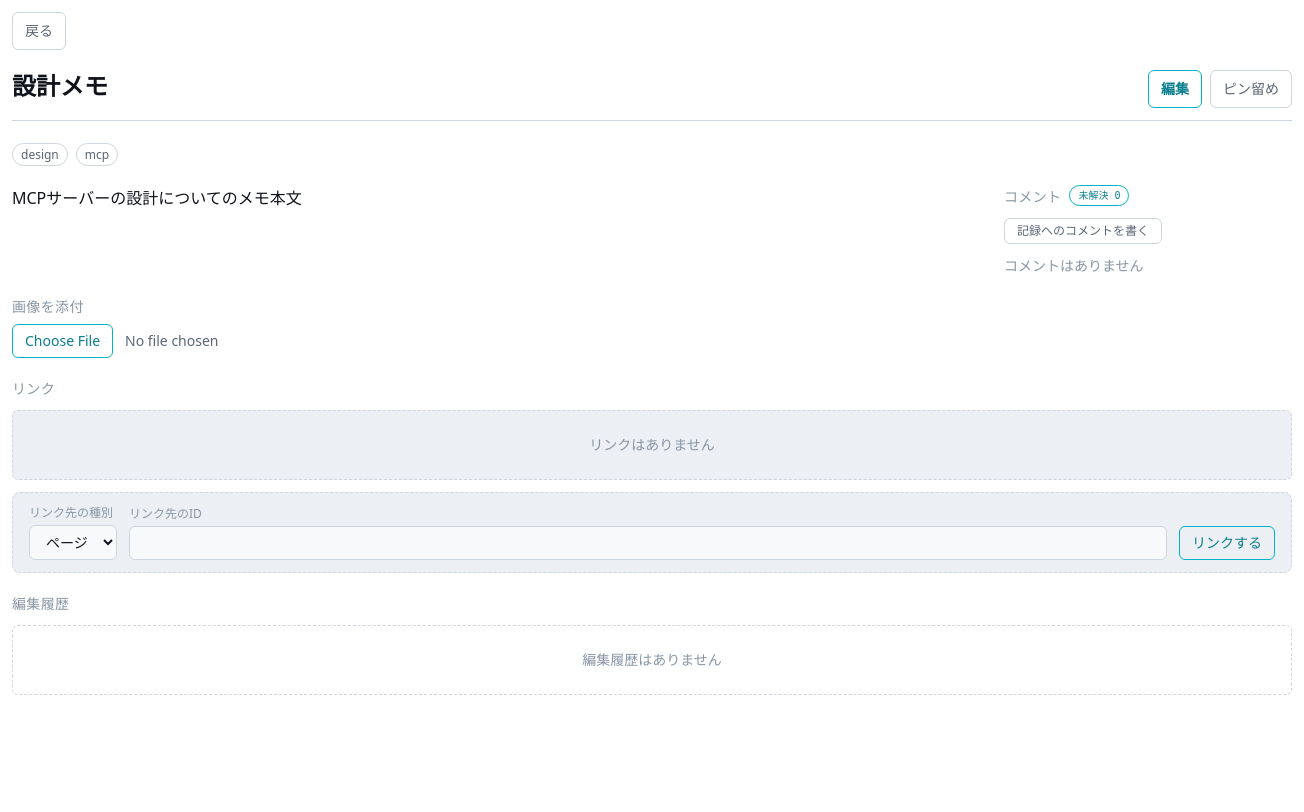
Scenario: NoteDetail の編集 › 保存に成功すると表示モードに戻り新しい内容を表示する
Expected: the heading "設計メモ" is shown, [12, 70, 108, 100]
Click the button "編集" at (1175, 89), box [1148, 70, 1202, 108]
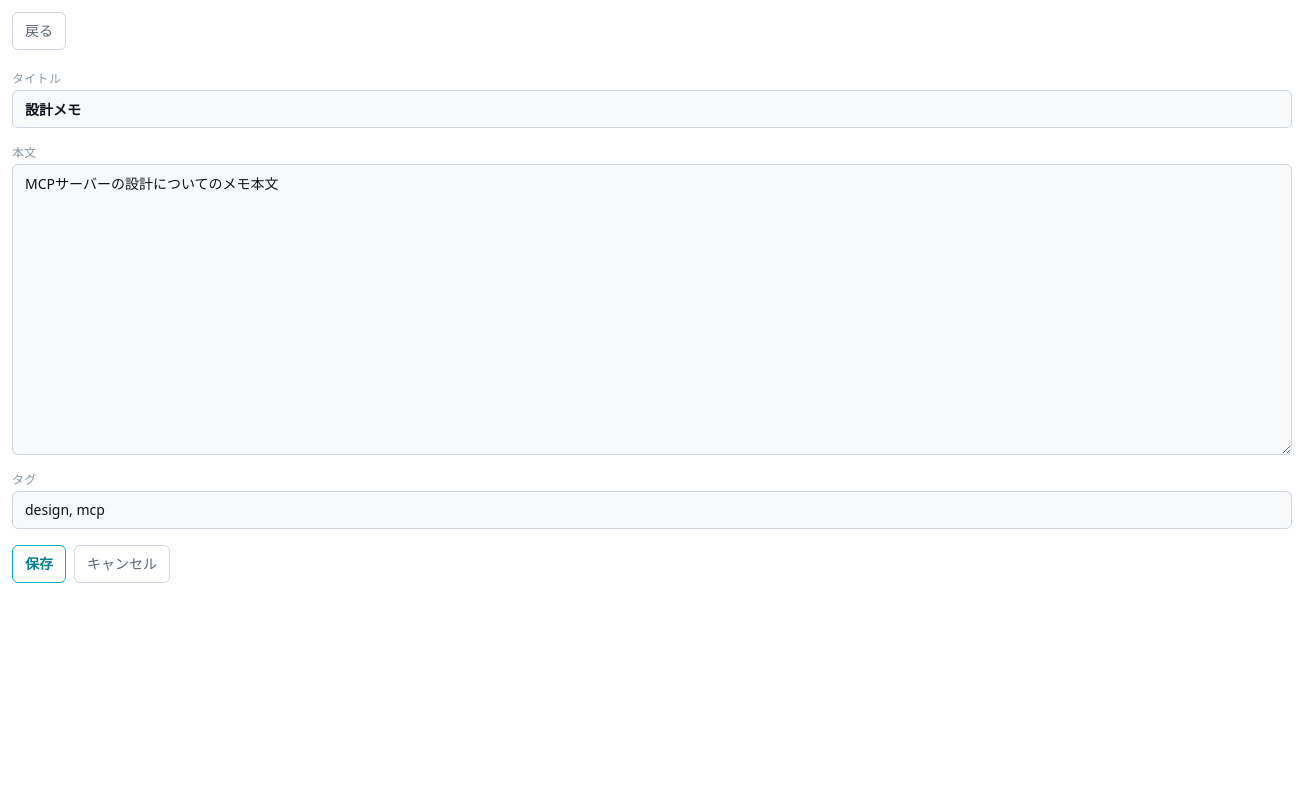
Replace the text in the field labelled "タイトル" with "改訂版" at (652, 109), box [12, 90, 1292, 128]
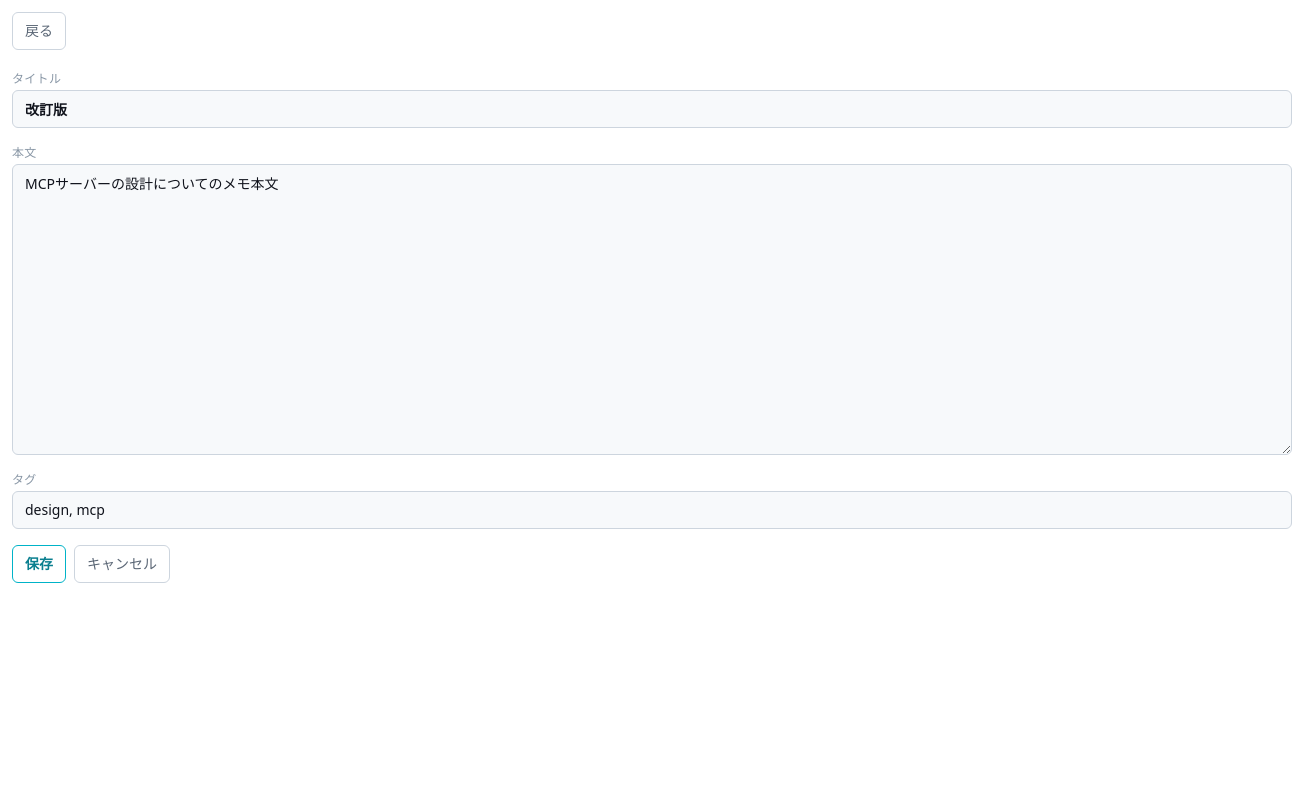
Click the button "保存" at (39, 564), box [12, 545, 66, 583]
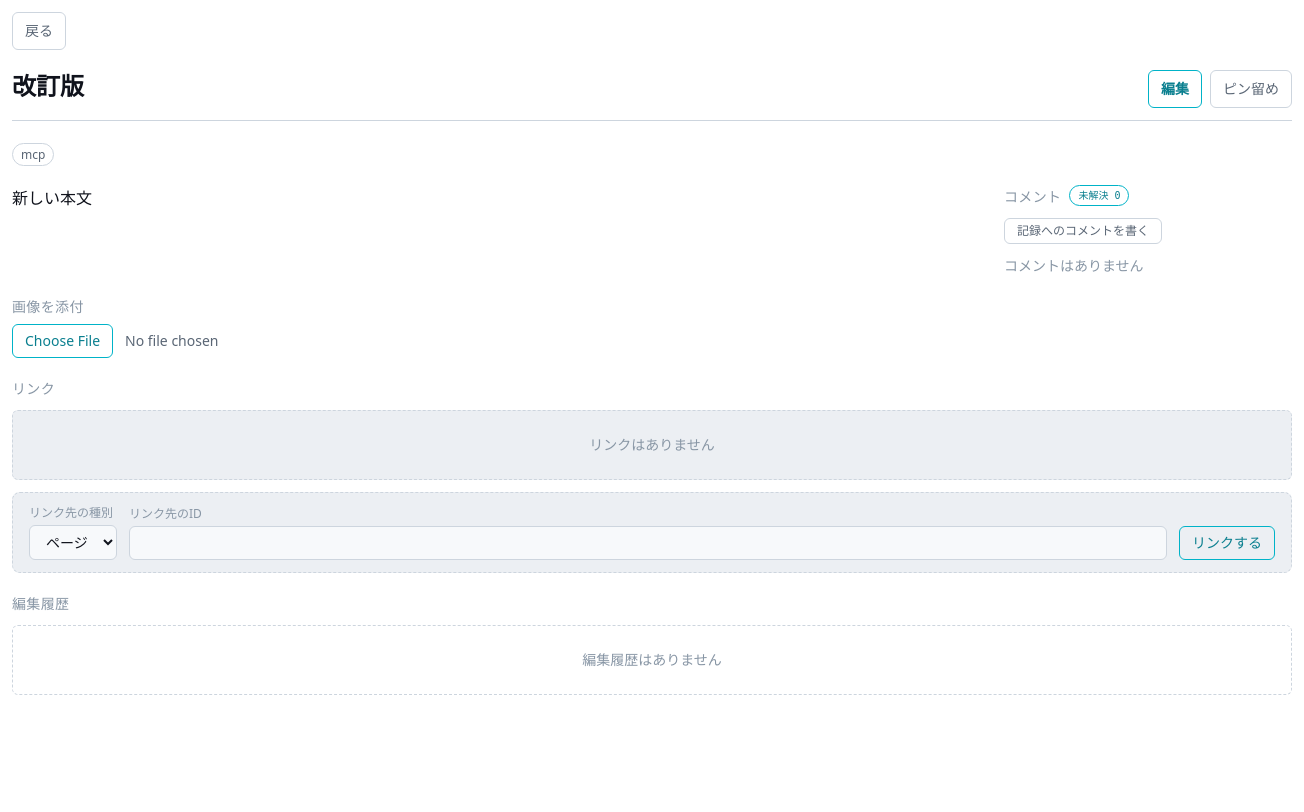
Now the heading "改訂版" is shown, box [12, 70, 84, 100]
Now the text "新しい本文" is shown, box [12, 187, 92, 209]
Now the label labelled "タイトル" is gone
